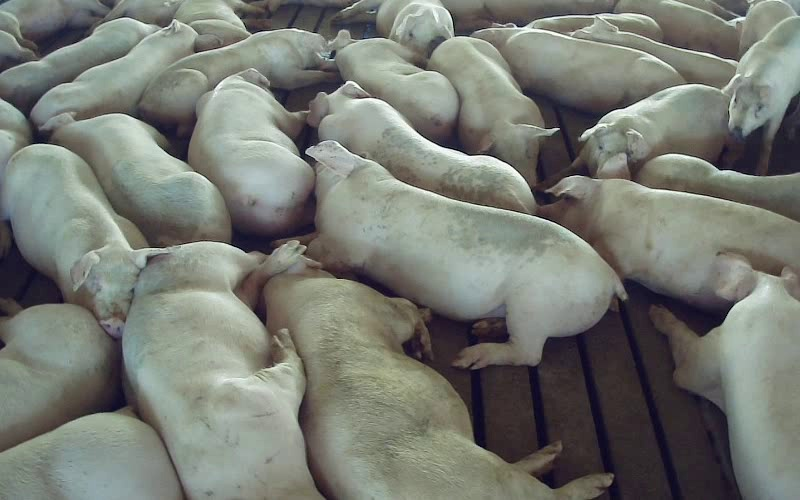pig: (266, 261, 611, 499), (307, 141, 625, 366), (123, 242, 318, 499), (538, 153, 799, 310), (650, 254, 799, 499), (3, 144, 167, 337), (308, 81, 535, 213), (42, 113, 230, 246), (188, 69, 314, 237), (138, 29, 336, 135), (30, 20, 220, 126), (541, 84, 729, 186), (428, 37, 556, 186), (472, 28, 684, 113), (0, 407, 182, 499), (0, 18, 158, 113), (331, 31, 458, 143), (725, 16, 799, 174), (570, 17, 736, 87), (635, 154, 799, 220), (333, 0, 453, 57), (174, 0, 263, 45)
